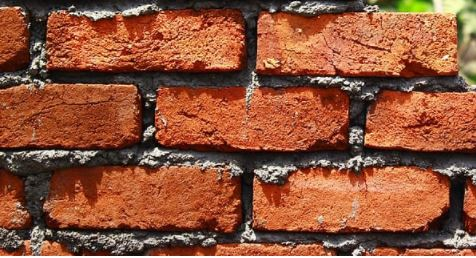brick: (258, 13, 458, 79), (44, 11, 246, 73), (156, 86, 348, 150), (255, 167, 444, 231), (50, 169, 238, 232), (1, 84, 140, 150), (364, 89, 476, 146), (1, 7, 32, 65), (1, 176, 24, 223)
